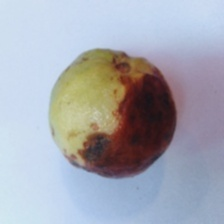guava: (7, 30, 195, 204)
